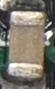Capacitor: (8, 11, 44, 79)
